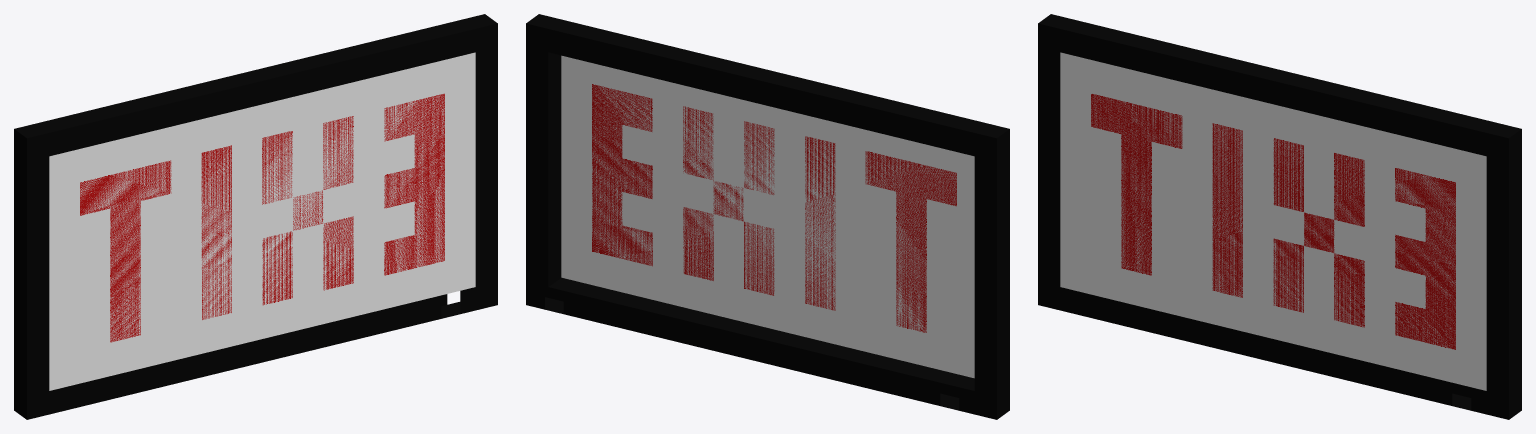
The model's file is exitSign.obj.
3 views of the same model, side by side, from view 1: azimuth 30°, elevation 25°; view 2: azimuth 150°, elevation 25°; view 3: azimuth 330°, elevation 25° (orthographic).
Parts seen in each view (by area): view 1: cube; view 2: cube; view 3: cube.
Part boxes in pixels (bbox=[...]): cube: bbox=[14, 14, 497, 419]; cube: bbox=[526, 14, 1009, 419]; cube: bbox=[1038, 14, 1521, 419].
Size of the model in its own units: 1.31 by 0.75 by 0.0625.
1 material, 1 textured.
